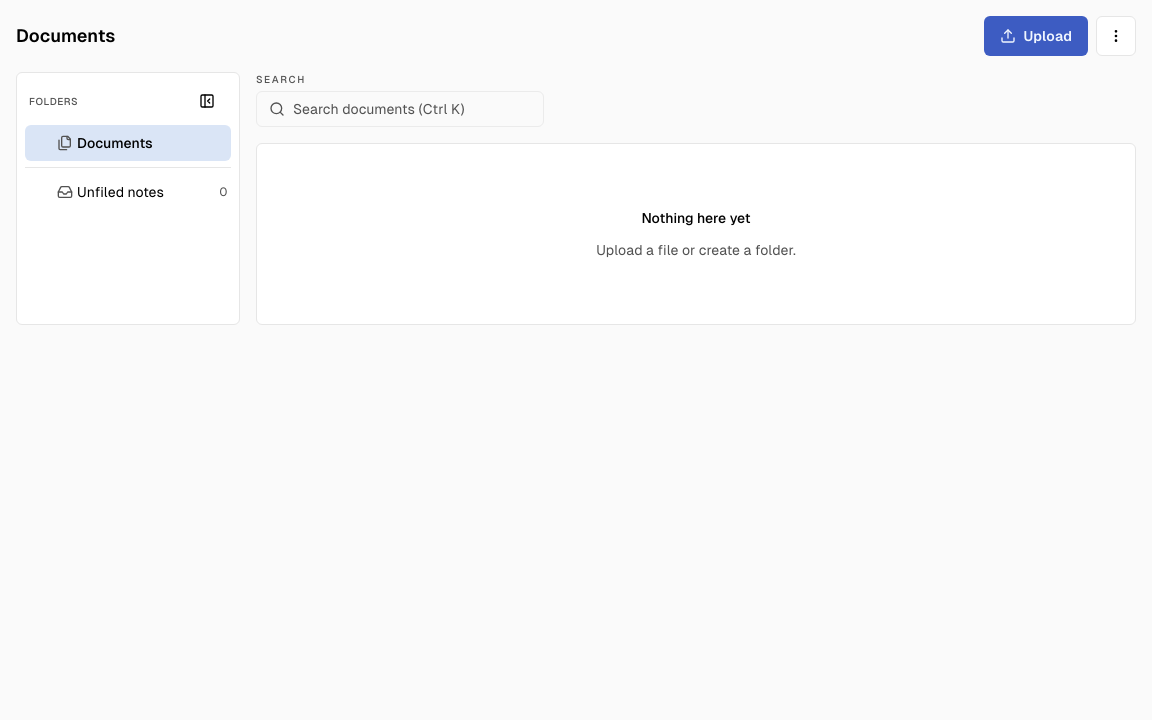
Test: DocumentsPanel › search overlay › shows each search hit's page and folder path
Click the field labelled "Search" at (414, 109), box [285, 89, 543, 129]
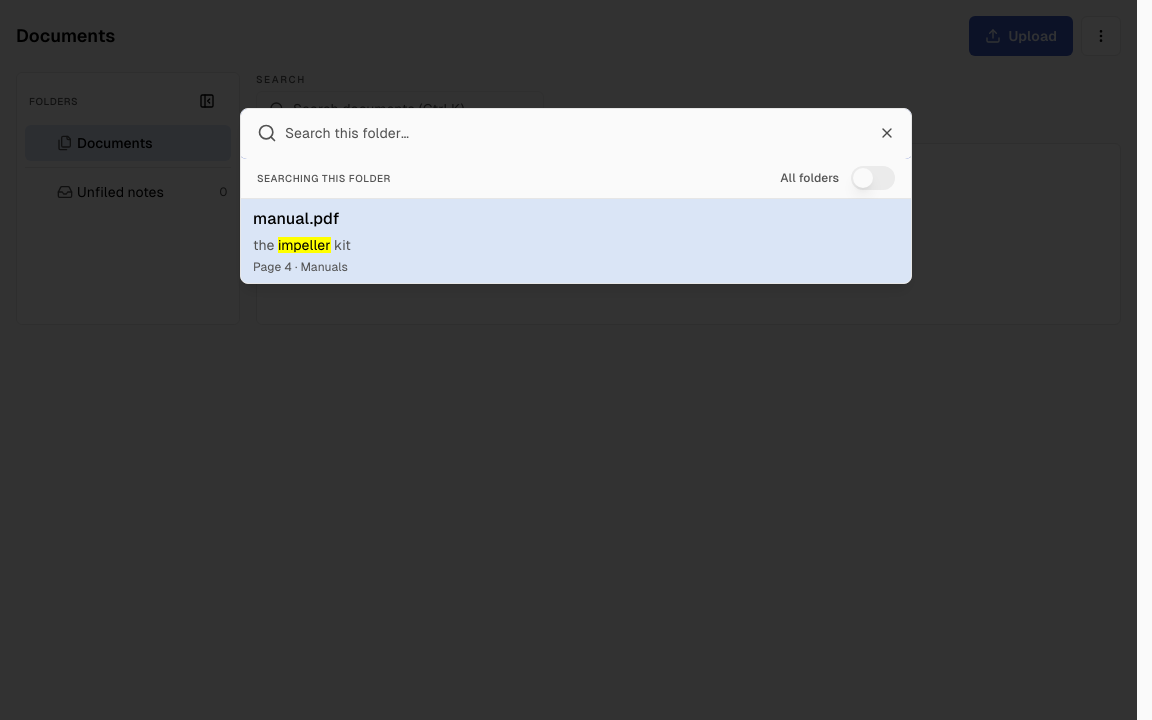
Now the text "Page 4 · Manuals" is shown, box [253, 259, 348, 275]
